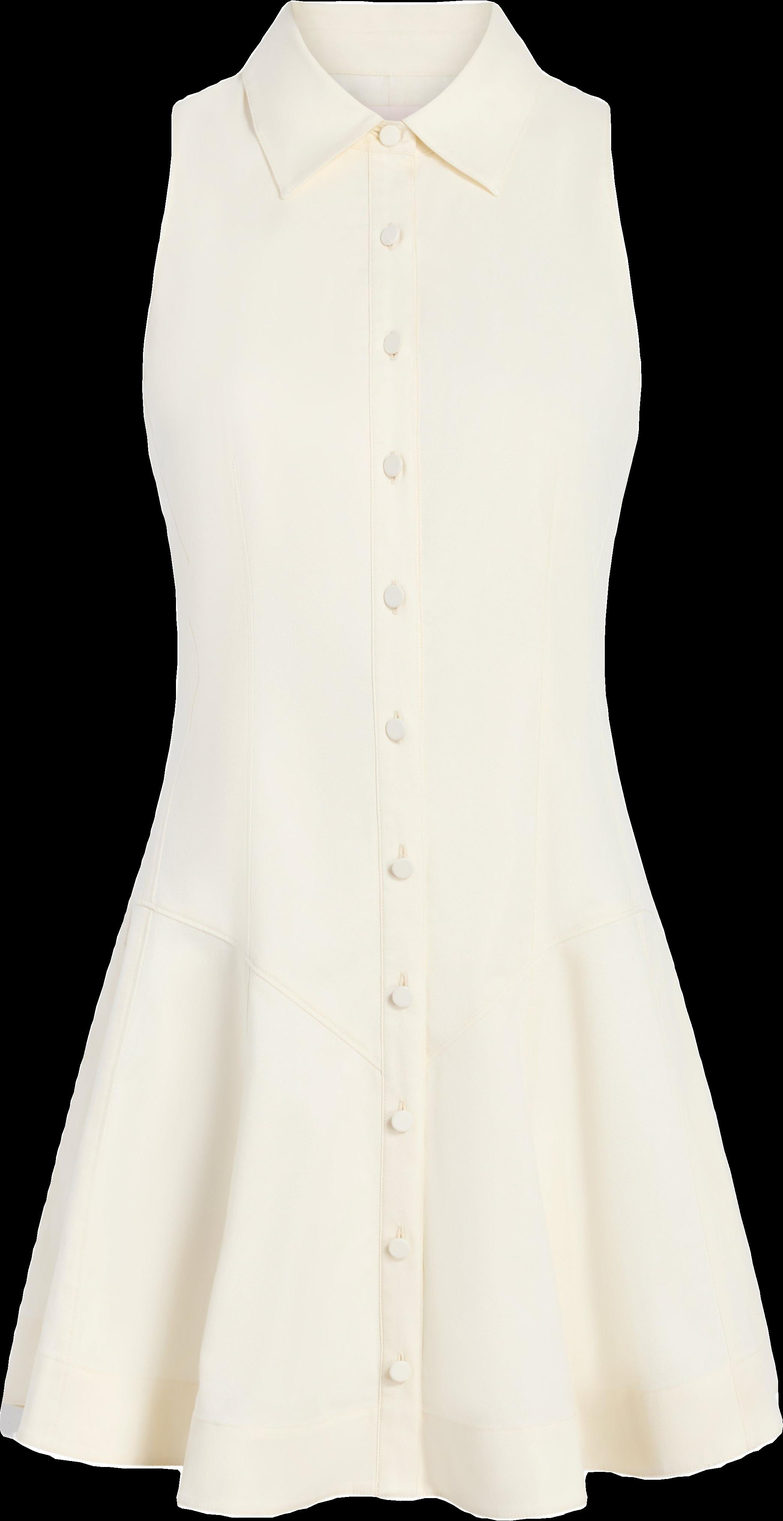Bodice: (141, 1, 642, 646)
Hemline: (0, 1419, 783, 1521)
Neckline: (283, 0, 506, 124)
Skirt: (0, 646, 782, 1519)
Waistline: (230, 69, 555, 210)
